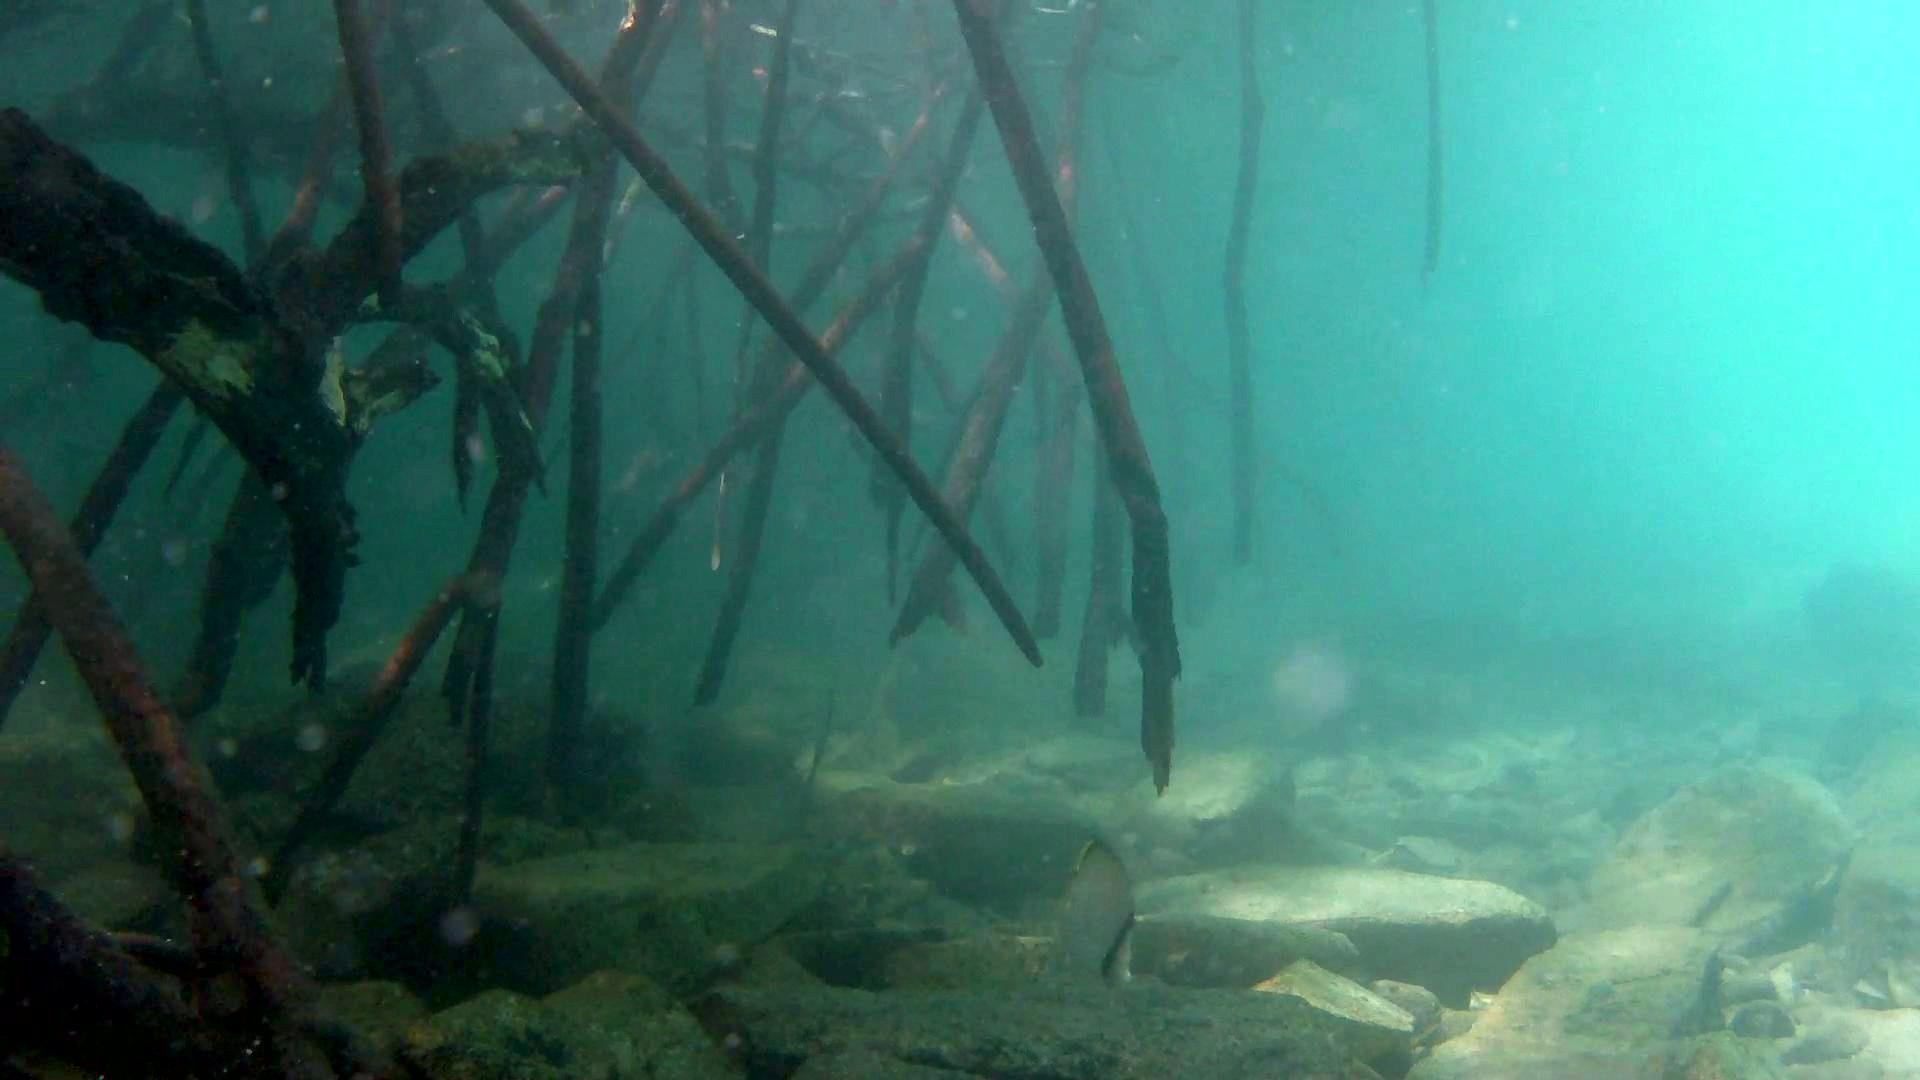chaetodon vagabundus: (1055, 832, 1139, 990)
